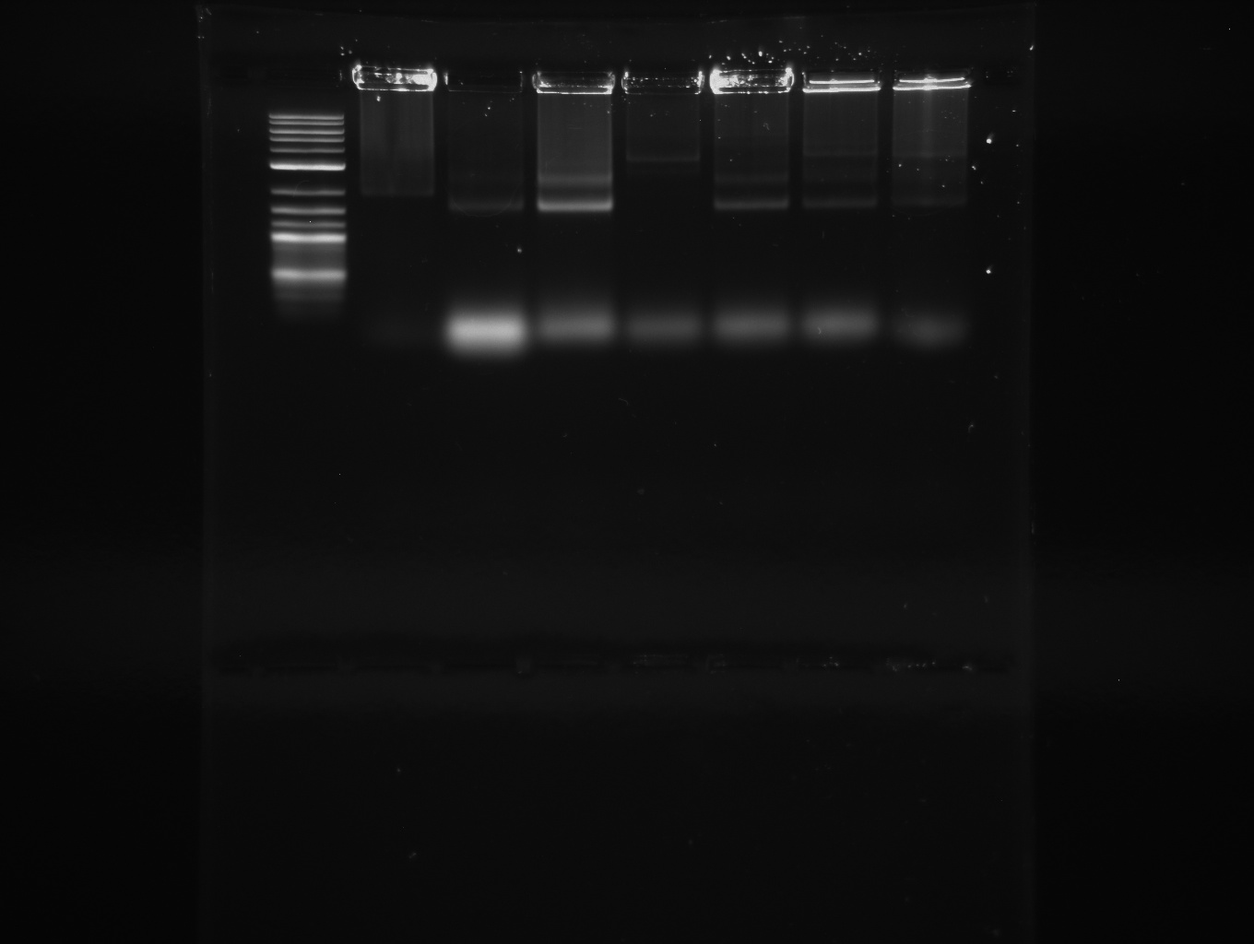Lane: (532, 28, 613, 944), (353, 21, 432, 944), (447, 21, 524, 944), (627, 27, 704, 944), (802, 16, 875, 944), (712, 23, 785, 944), (897, 37, 969, 944)
ladder: (265, 30, 350, 944)
